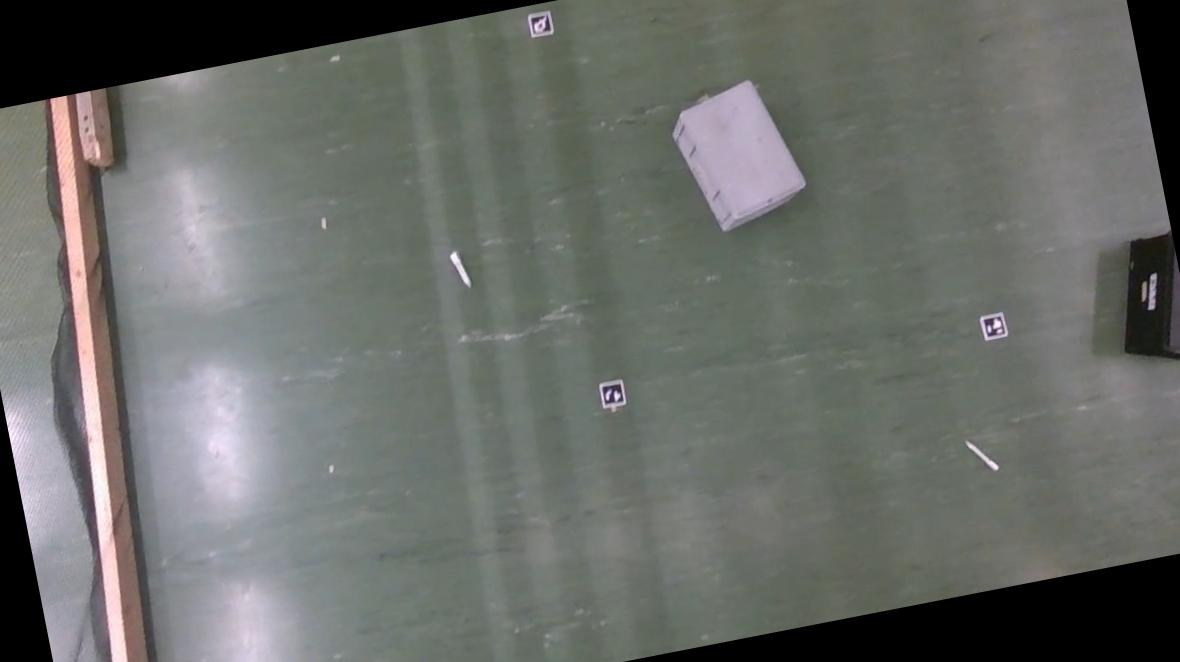probes: (966, 438, 998, 476), (450, 251, 472, 292)
rako: (664, 74, 813, 240), (1104, 230, 1180, 376)
